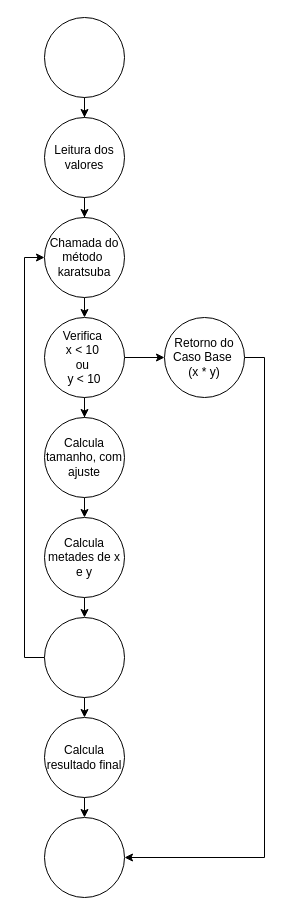
This 290x915 diagram has some shape labels left out. The centre of each missing label's shape, as x and y in pixels:
"Chamadas recursivas" belongs at (x=84, y=657).
"Inicío" belongs at (x=84, y=57).
"Saída" belongs at (x=84, y=857).
